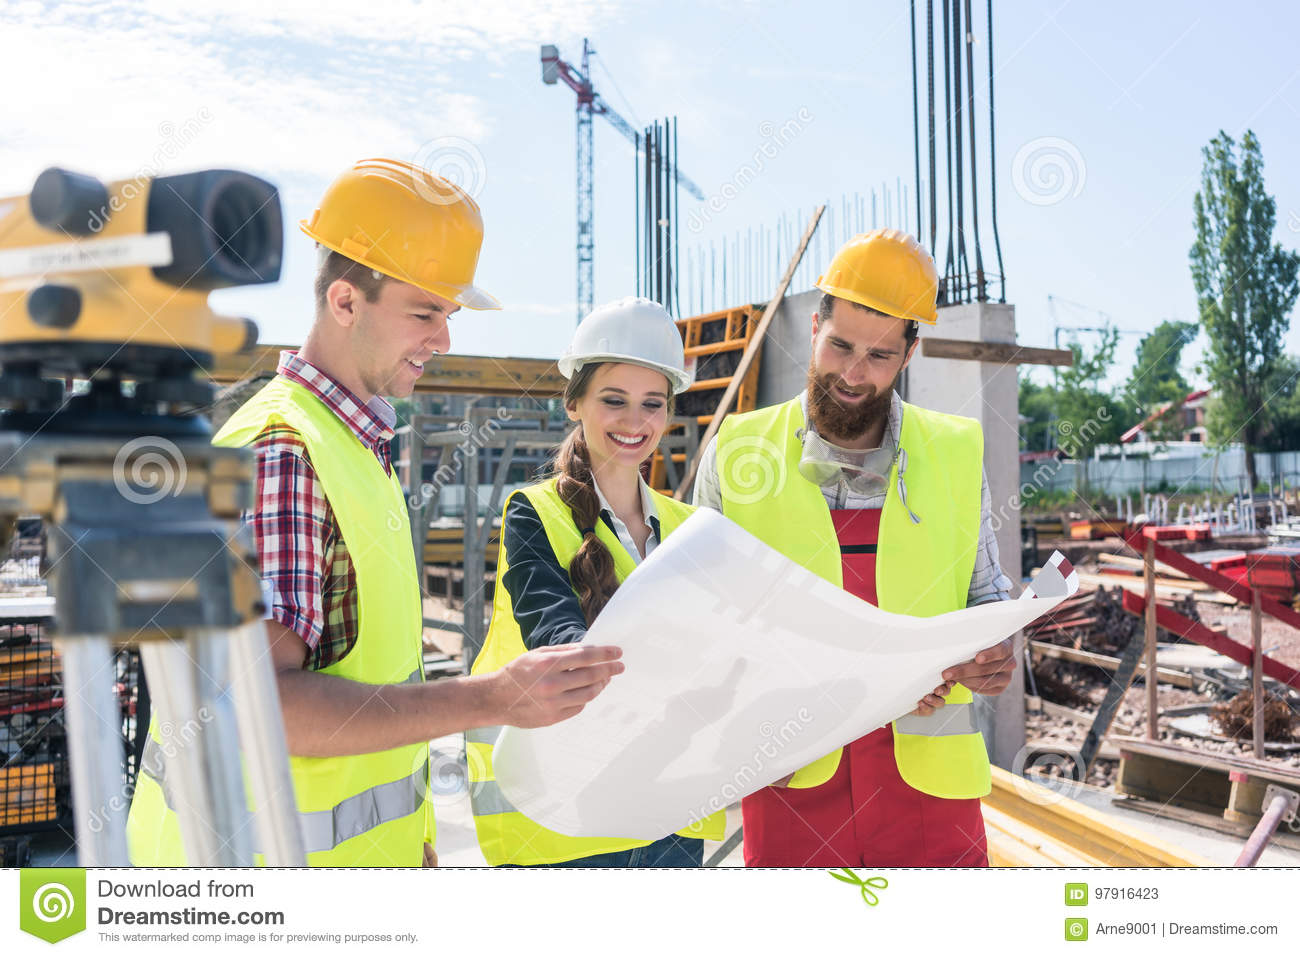casco: (297, 155, 506, 318), (553, 293, 698, 398), (813, 225, 942, 330)
